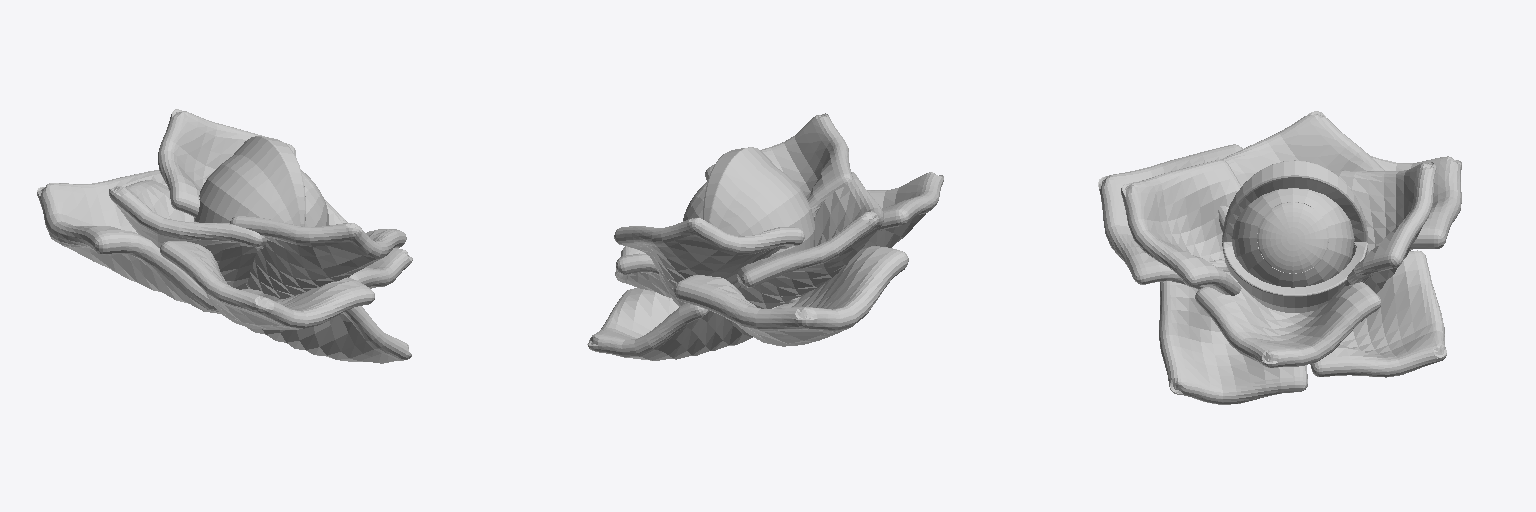
File: Flower eye.obj
The picture shows the model from 3 angles: view 1: azimuth 30°, elevation 25°; view 2: azimuth 150°, elevation 25°; view 3: azimuth 270°, elevation 25°; orthographic projection.
Visible parts, largest first — view 1: pPlane6, pPlane3, pSphere4, pPlane7, pPlane2, pPlane1, pPlane8, pPlane4, pSphere3; view 2: pPlane6, pPlane2, pSphere4, pPlane5, pPlane1, pPlane3, pPlane7, pPlane4; view 3: pPlane3, pSphere3, pPlane8, pPlane5, pPlane4, pSphere4, pPlane1, pPlane2, pPlane7, pPlane6.
Part boxes in pixels (left/top/right/bottom): pPlane6: left=37, top=170, right=220, bottom=313; pPlane3: left=230, top=216, right=406, bottom=298; pSphere4: left=194, top=136, right=305, bottom=226; pPlane7: left=160, top=241, right=374, bottom=329; pPlane2: left=109, top=180, right=266, bottom=289; pPlane1: left=158, top=109, right=295, bottom=217; pPlane8: left=242, top=289, right=411, bottom=363; pPlane4: left=324, top=199, right=412, bottom=288; pSphere3: left=301, top=170, right=328, bottom=226; pPlane6: left=674, top=246, right=908, bottom=346; pPlane2: left=737, top=172, right=883, bottom=308; pSphere4: left=703, top=147, right=814, bottom=256; pPlane5: left=587, top=288, right=752, bottom=360; pPlane1: left=614, top=218, right=804, bottom=306; pPlane3: left=705, top=113, right=852, bottom=216; pPlane7: left=861, top=172, right=943, bottom=249; pPlane4: left=615, top=246, right=670, bottom=297; pPlane3: left=1121, top=160, right=1241, bottom=295; pSphere3: left=1231, top=188, right=1354, bottom=287; pPlane8: left=1159, top=259, right=1307, bottom=404; pPlane5: left=1310, top=250, right=1446, bottom=377; pPlane4: left=1195, top=275, right=1380, bottom=367; pSphere4: left=1222, top=160, right=1367, bottom=312; pPlane1: left=1331, top=162, right=1436, bottom=293; pPlane2: left=1218, top=111, right=1384, bottom=231; pPlane7: left=1098, top=144, right=1242, bottom=289; pPlane6: left=1371, top=156, right=1461, bottom=250.
Bounding box in the file's own units: 5.64 × 3.77 × 5.89.